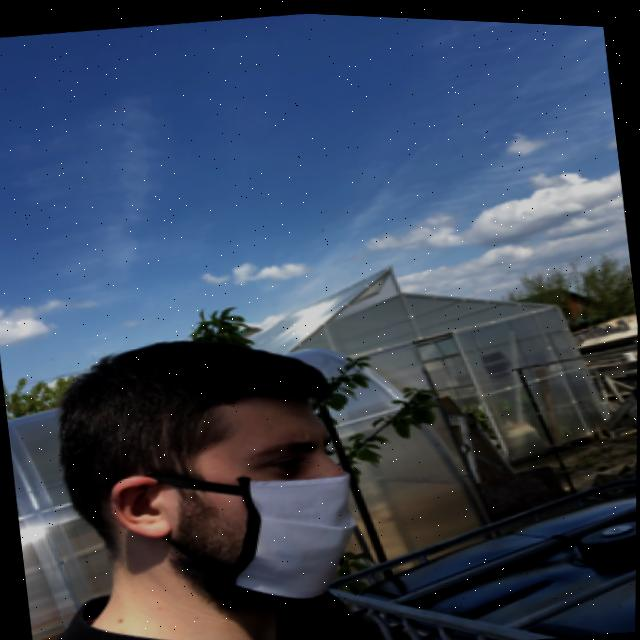Mask: (114, 448, 366, 616)
